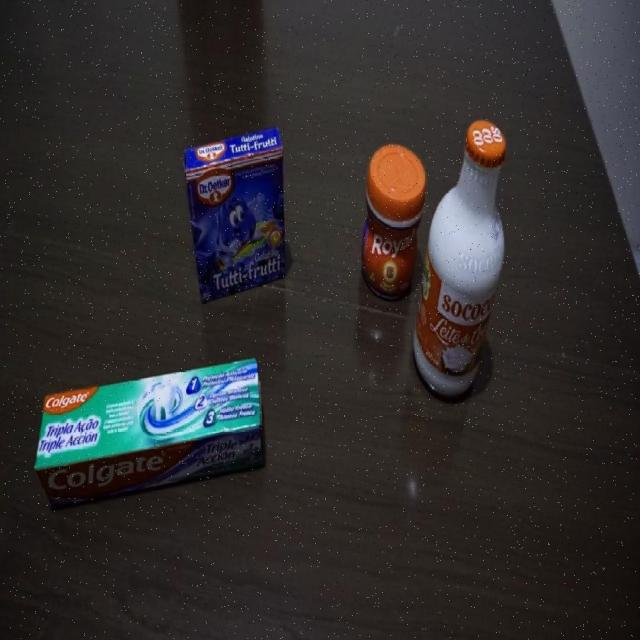CoconutMilk: (418, 125, 501, 403)
Gelatine: (182, 127, 289, 300)
Toothpaste: (38, 357, 268, 497)
Yeast: (359, 138, 421, 298)
